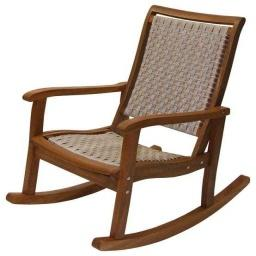Chair: (7, 7, 251, 252)
